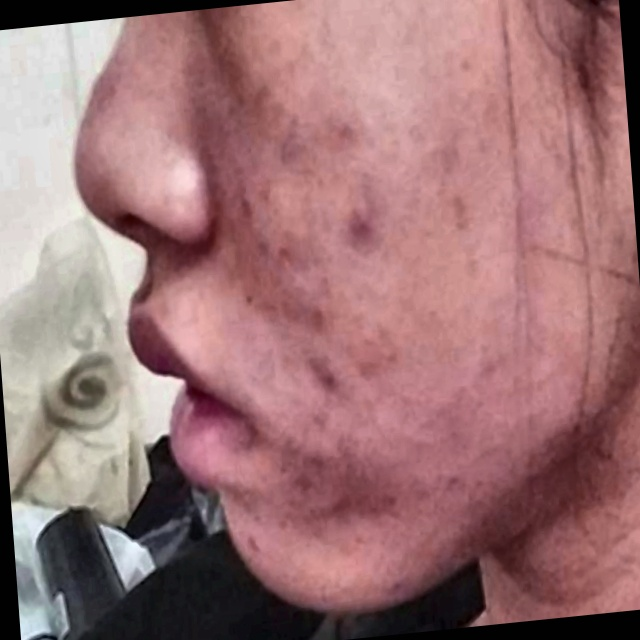comedone: (339, 197, 386, 259), (294, 273, 338, 330), (278, 123, 311, 176), (314, 351, 345, 399)
